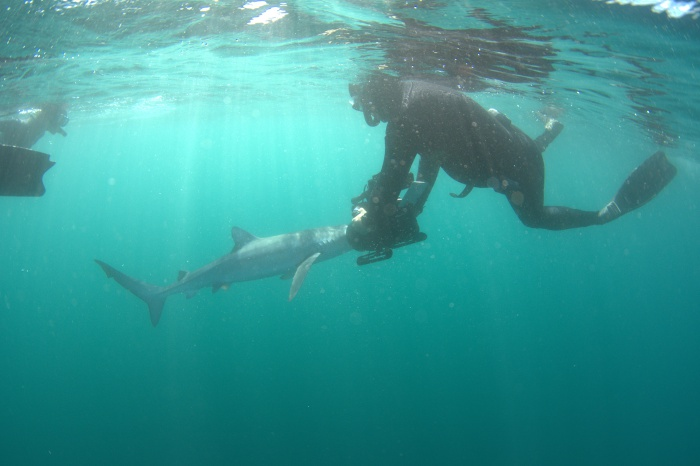Azul: (86, 215, 378, 332)
